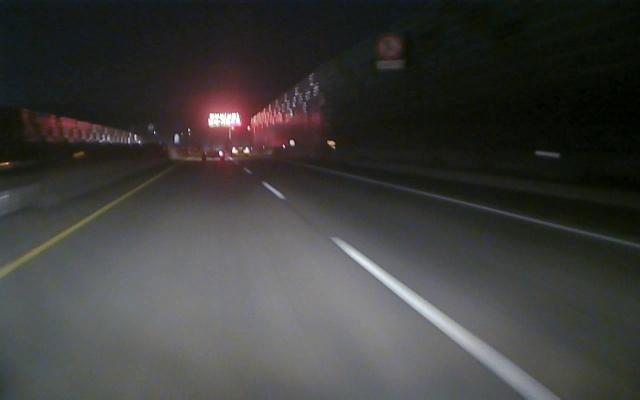lane: (264, 183, 561, 399), (357, 176, 640, 247), (1, 192, 130, 276)
